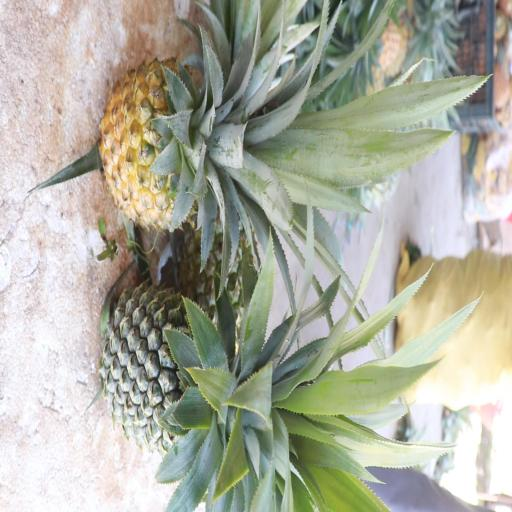Pineapple - v8 v1: (96, 49, 302, 236)
